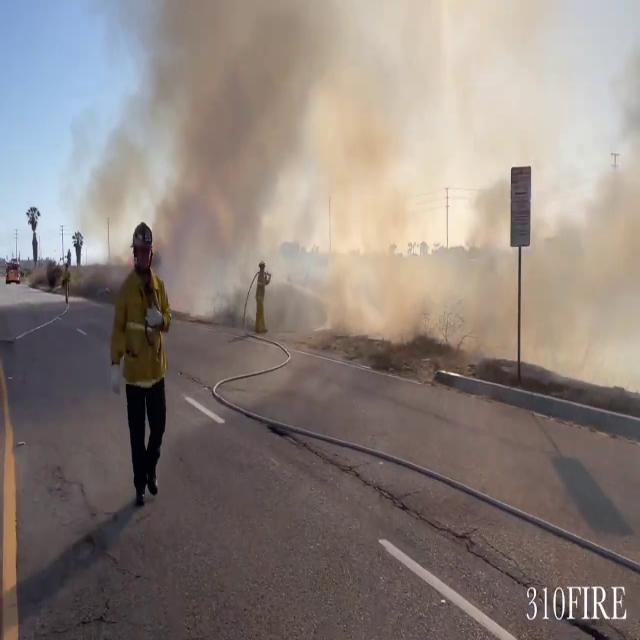Smoke: (122, 0, 476, 326)
